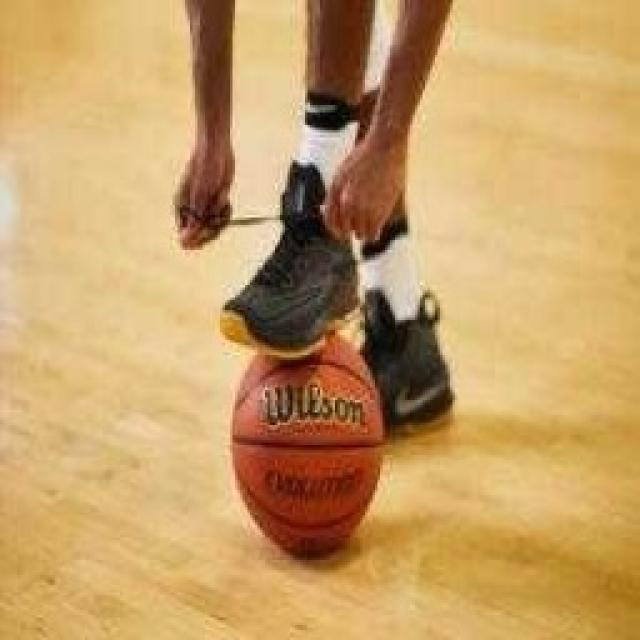basketball: (220, 319, 402, 573)
